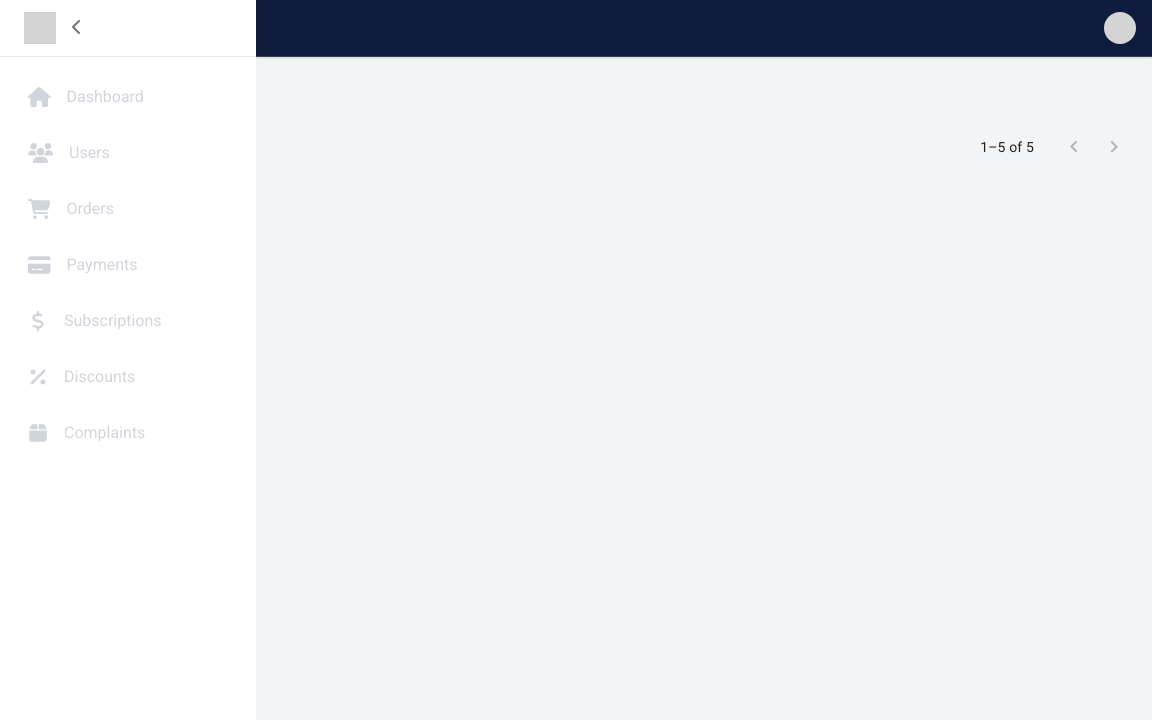
Test: Orders Page › changes page with pagination
This screenshot has width=1152, height=720.
Click the button named "next page".
click(1114, 147)  # box [1094, 127, 1134, 167]
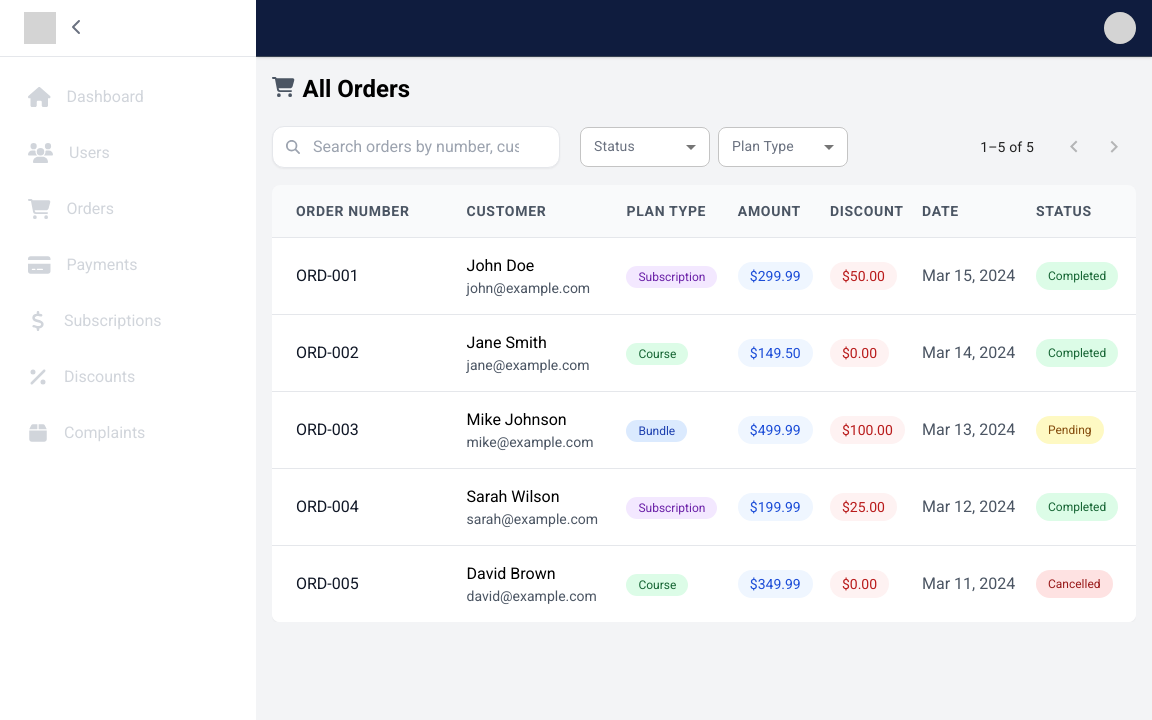
Expected: the row "Order Number Customer Plan Type Amount Discount Date Status" is shown, [272, 185, 1136, 238]
